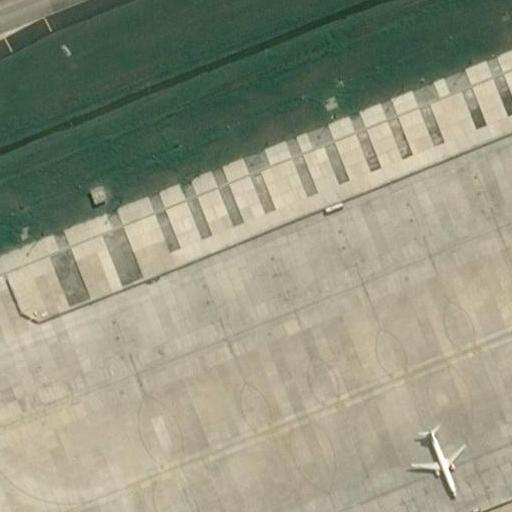Aircraft: (406, 428, 468, 504)
